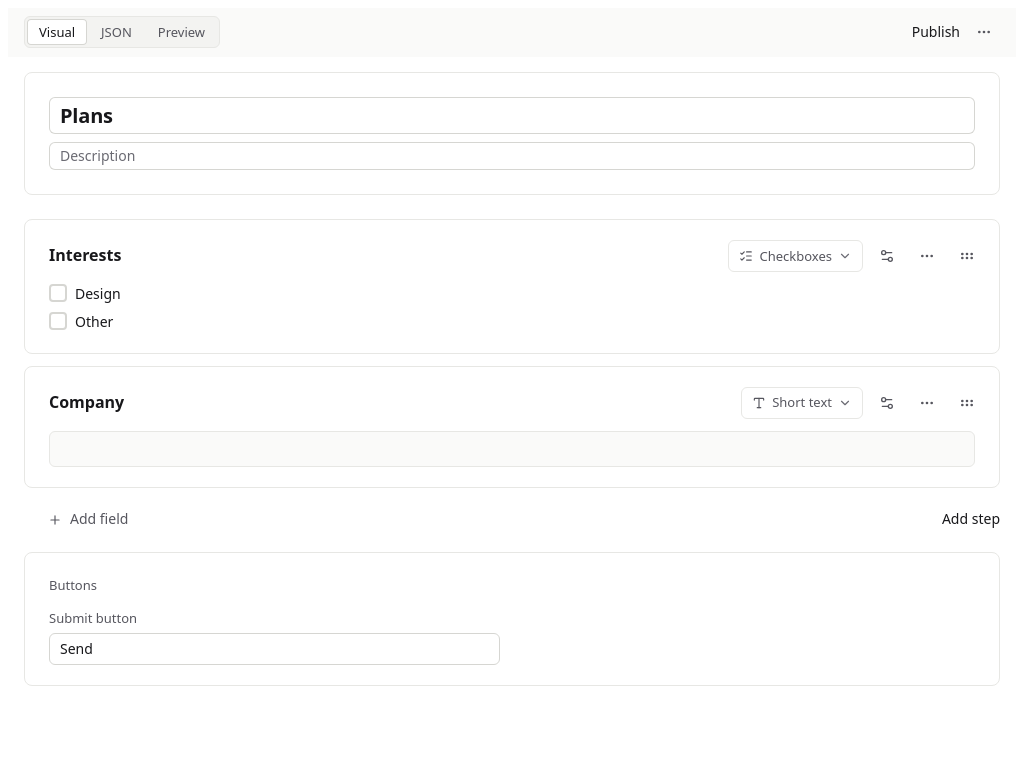
Test: field logic in a browser › offers includes and doesn't include for a multiselect source
The width and height of the screenshot is (1024, 764).
Click the 2nd button named "Field settings": (887, 403) [871,387,903,419]
(page scrolled)
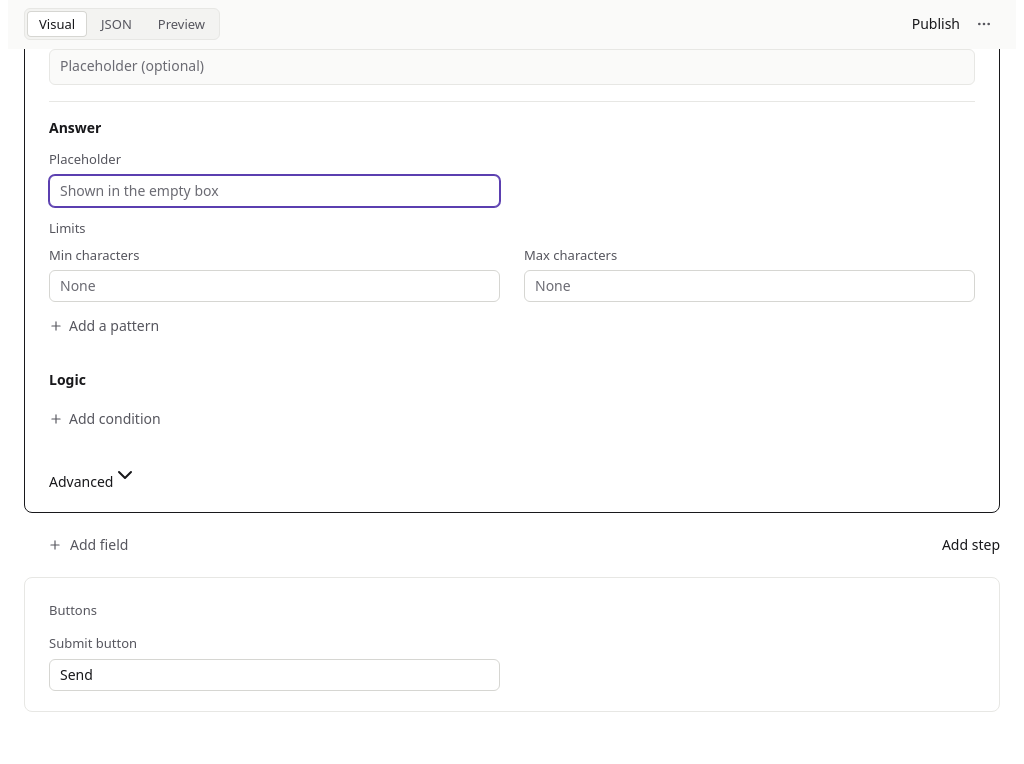
Click the button "Add condition": (115, 418) [37,403,975,435]
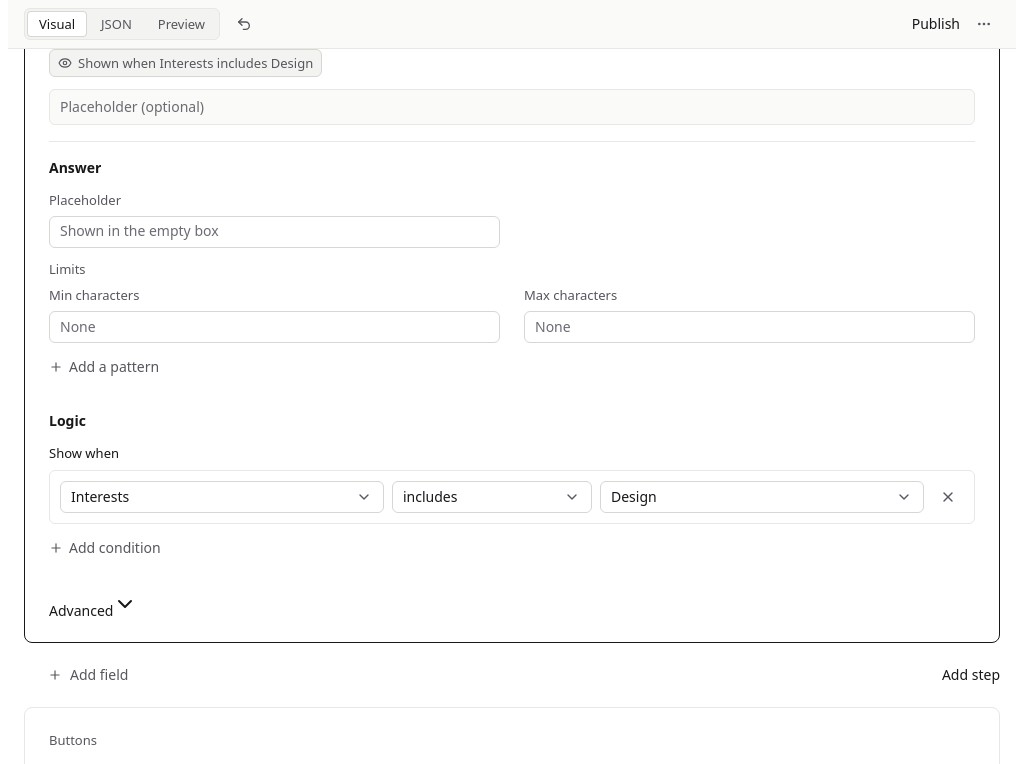
Select "doesn't include" in the dropdown named "Operator": (492, 497) [392,481,592,513]
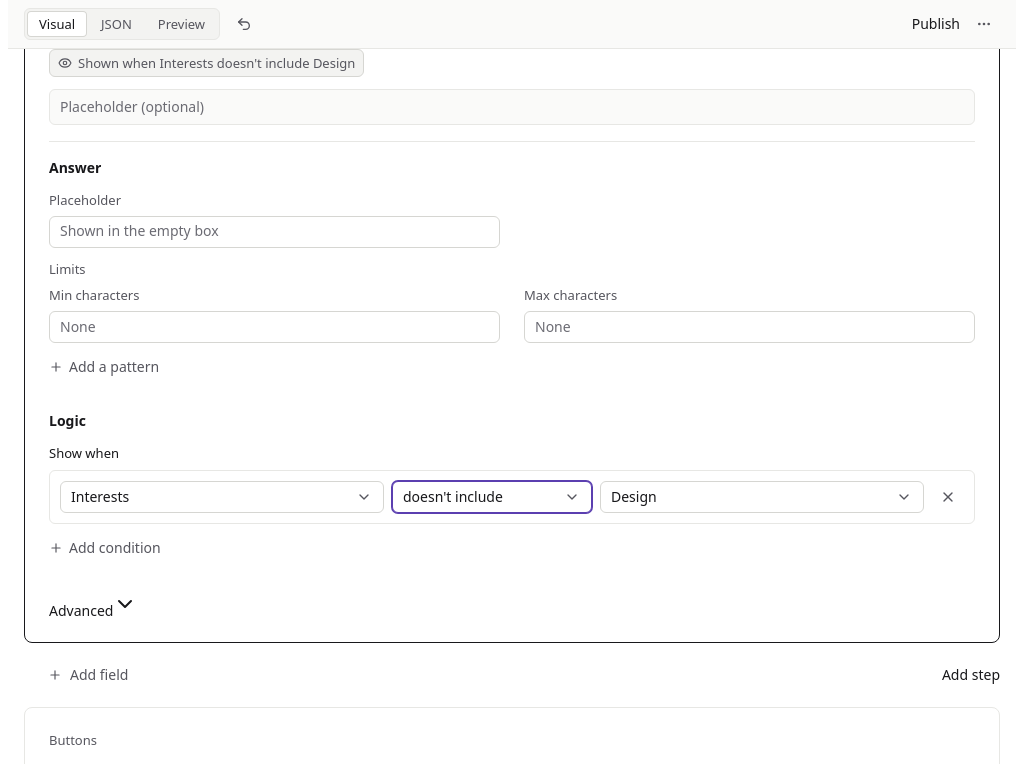
Select "Other" in the dropdown named "Value": (762, 497) [600,481,924,513]
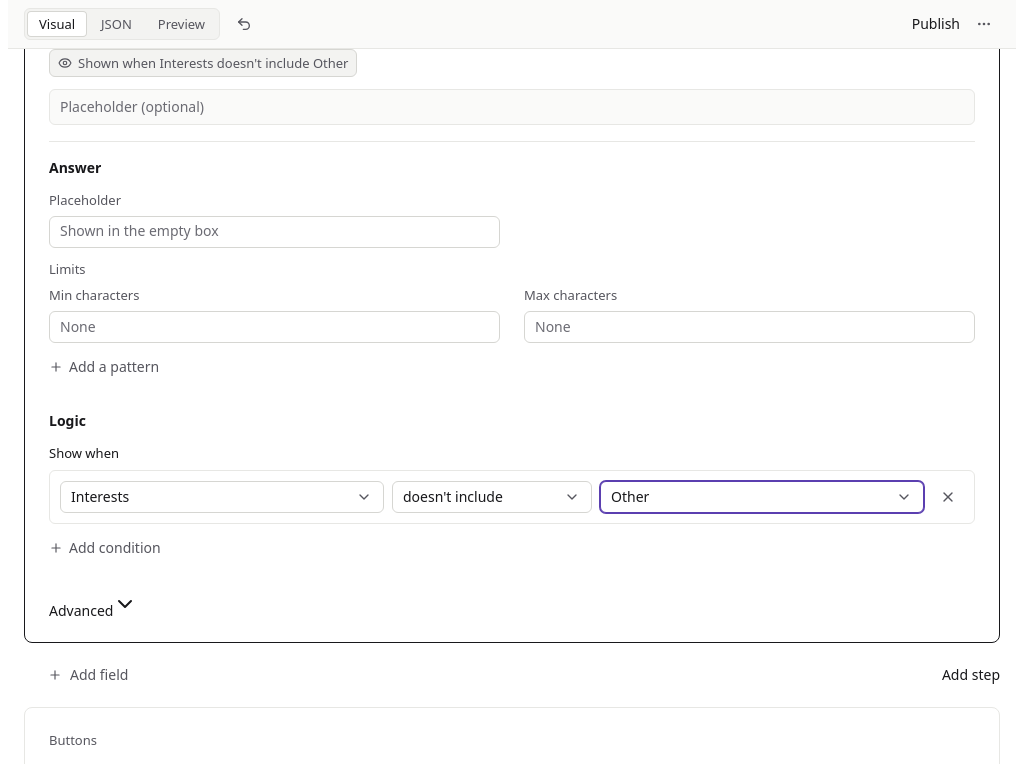
Expected: the button "Shown when Interests doesn't include Other" is shown, [49,49,358,77]
